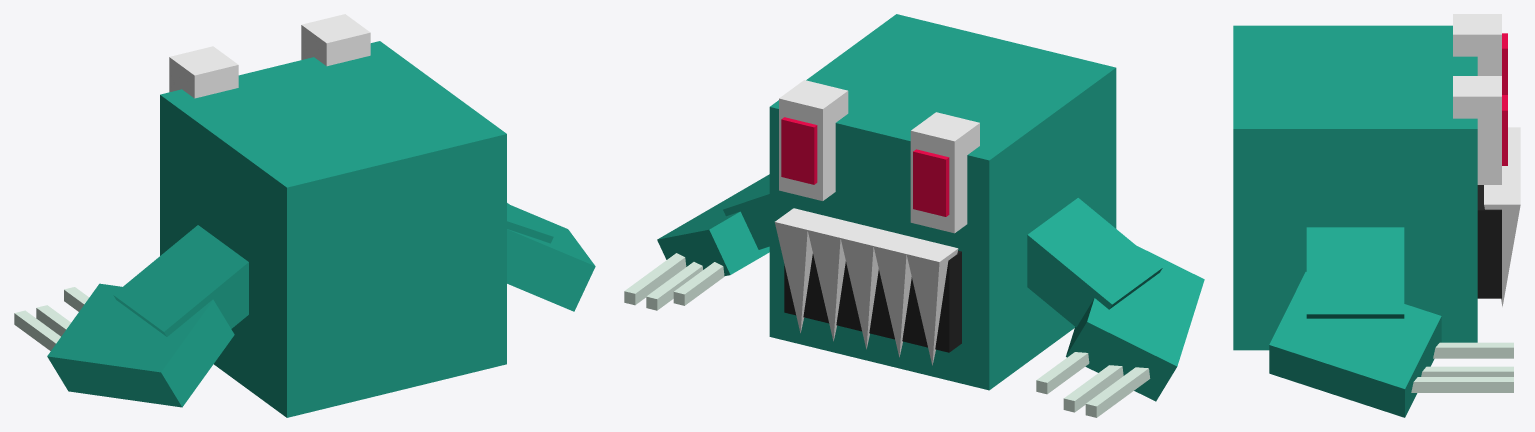
The model's file is monster1.gltf.
3 views of the same model, side by side, from view 1: azimuth 30°, elevation 25°; view 2: azimuth 150°, elevation 25°; view 3: azimuth 270°, elevation 25° (orthographic). The views are drawn at different scales.
Visible parts, largest first — view 1: cuboid (×9); view 2: cuboid (×16), pyramid (×5); view 3: cuboid (×11), pyramid (×2).
Part boxes in pixels (left/top/right/bottom): cuboid (×9): left=14, top=14, right=595, bottom=417; cuboid (×16): left=624, top=14, right=1204, bottom=417; pyramid (×5): left=774, top=208, right=958, bottom=365; cuboid (×11): left=1233, top=14, right=1513, bottom=417; pyramid (×2): left=1484, top=173, right=1520, bottom=306.
Bounding box in the file's own units: 0.148 × 0.0707 × 0.0736.
Materials: 6 (4 with a texture image).
